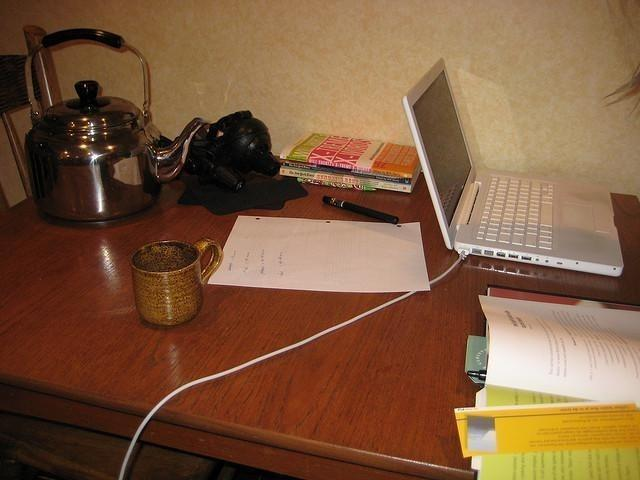cup-handle: (129, 237, 223, 327)
